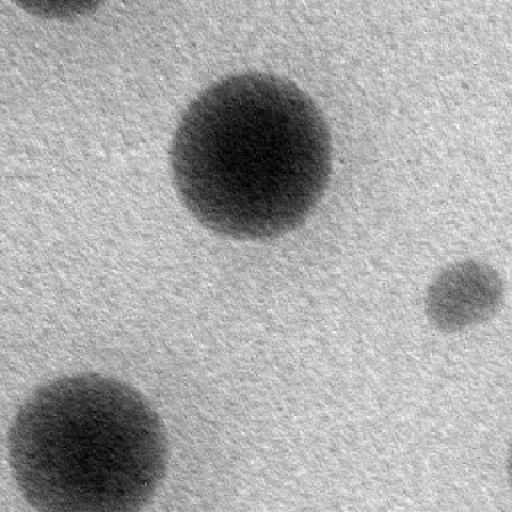Nanoparticles: (168, 72, 338, 240), (8, 370, 172, 512), (423, 260, 506, 337), (15, 0, 101, 21)
